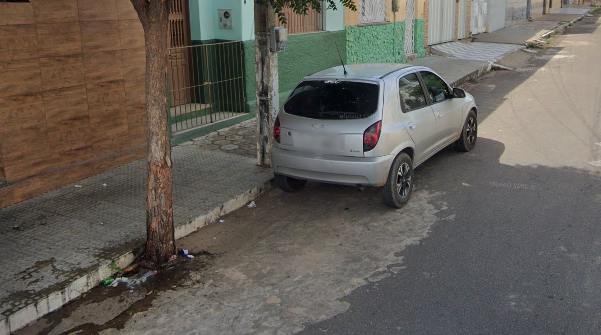car: (265, 37, 481, 220)
